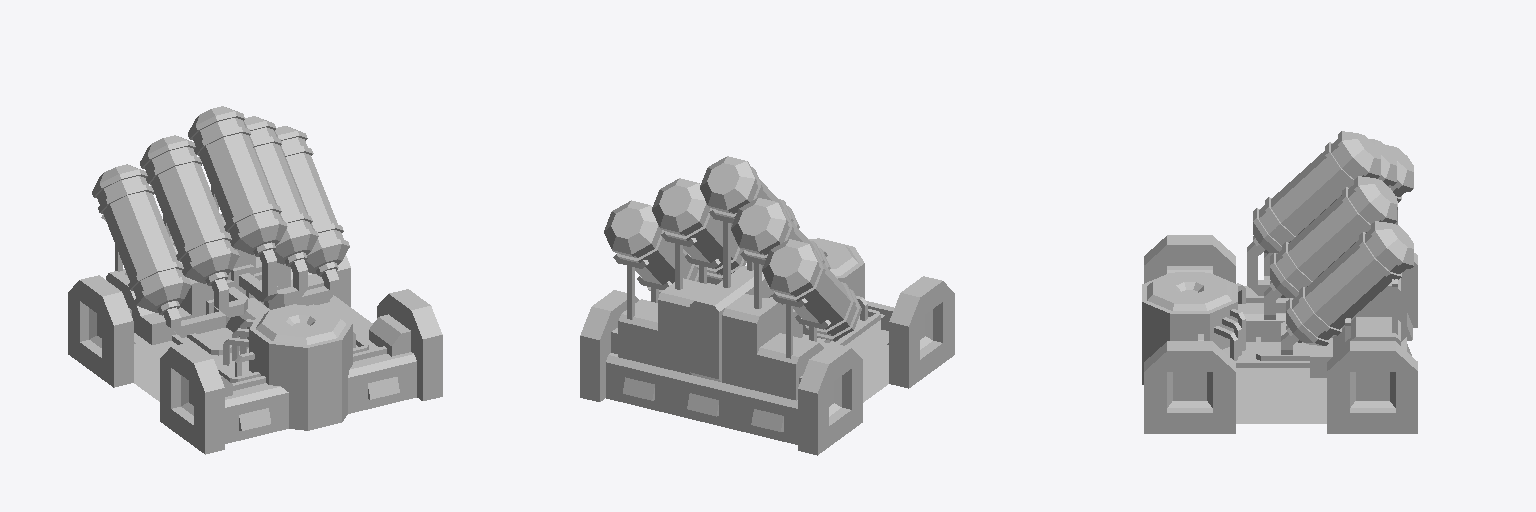
File: grand_distillery_body.obj
3 renders of one model, left to right at view 1: azimuth 30°, elevation 25°; view 2: azimuth 150°, elevation 25°; view 3: azimuth 270°, elevation 25°, orthographic.
Parts seen in each view (by area): view 1: GRAND_DISTILLERY_Cube.031; view 2: GRAND_DISTILLERY_Cube.031; view 3: GRAND_DISTILLERY_Cube.031.
Boxes of the visible parts, <box> form: GRAND_DISTILLERY_Cube.031: <box>68,106,442,454</box>; GRAND_DISTILLERY_Cube.031: <box>580,156,954,455</box>; GRAND_DISTILLERY_Cube.031: <box>1142,131,1417,433</box>.
Bounding box in the file's own units: 3 × 2.9 × 3.03.